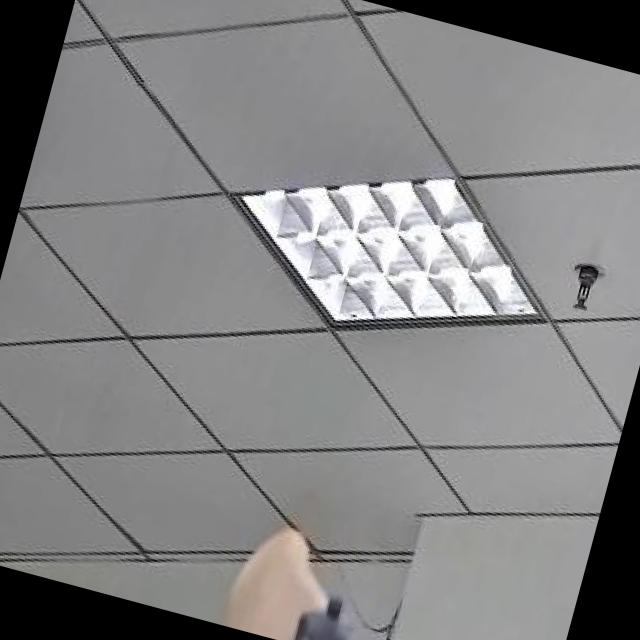Guns: (237, 559, 458, 640)
